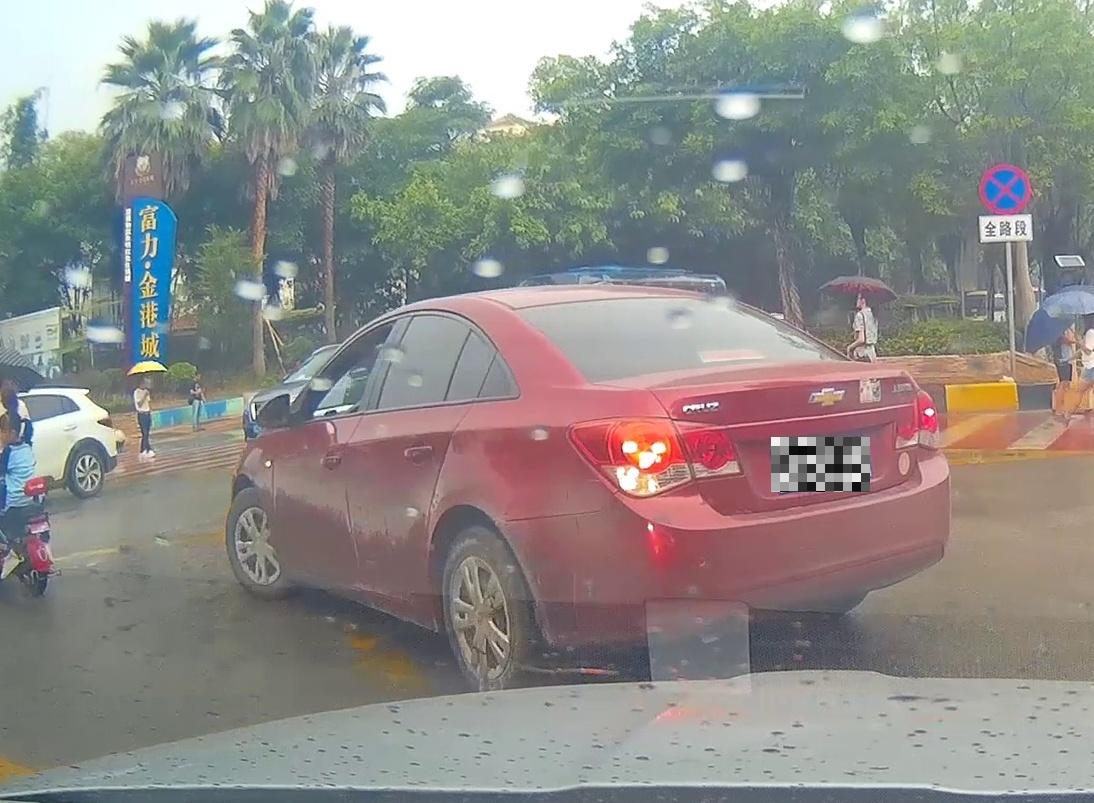L_light: (566, 417, 743, 498)
R_light: (896, 390, 942, 449)
T_light: (700, 347, 761, 361)
day-left: (498, 290, 951, 687)
plate_1: (771, 437, 870, 492)
